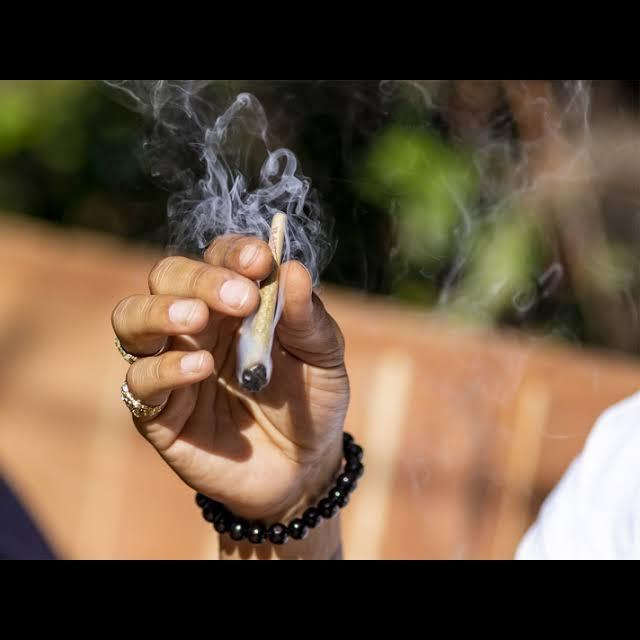rokok: (237, 203, 289, 389)
